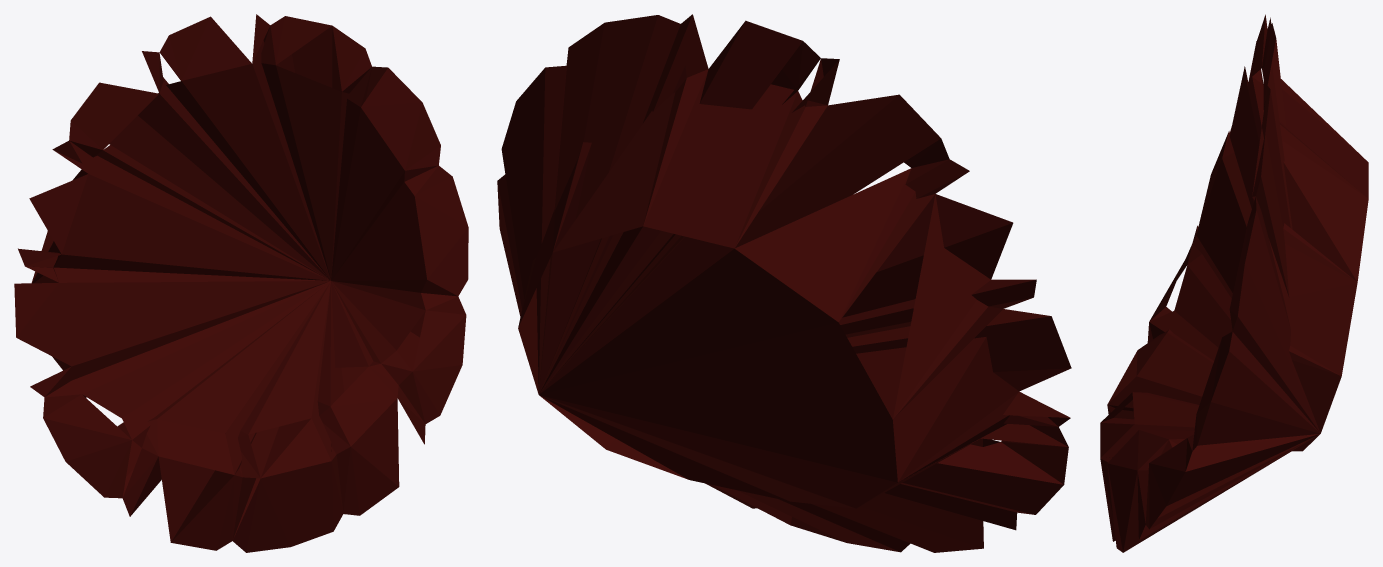
The model's file is S.S._Dolphin_Seat.obj.
3 renders of one model, left to right at view 1: azimuth 30°, elevation 25°; view 2: azimuth 150°, elevation 25°; view 3: azimuth 270°, elevation 25°, orthographic. The views are drawn at different scales.
Parts seen in each view (by area): view 1: S.S._Dolphin_Seat; view 2: S.S._Dolphin_Seat; view 3: S.S._Dolphin_Seat.
Boxes of the visible parts, box(x1,y1,x2,y2) form: S.S._Dolphin_Seat: box(14, 14, 468, 552); S.S._Dolphin_Seat: box(497, 14, 1071, 552); S.S._Dolphin_Seat: box(1100, 14, 1368, 552).
Bounding box in the file's own units: 2.13 × 2.13 × 1.06.
